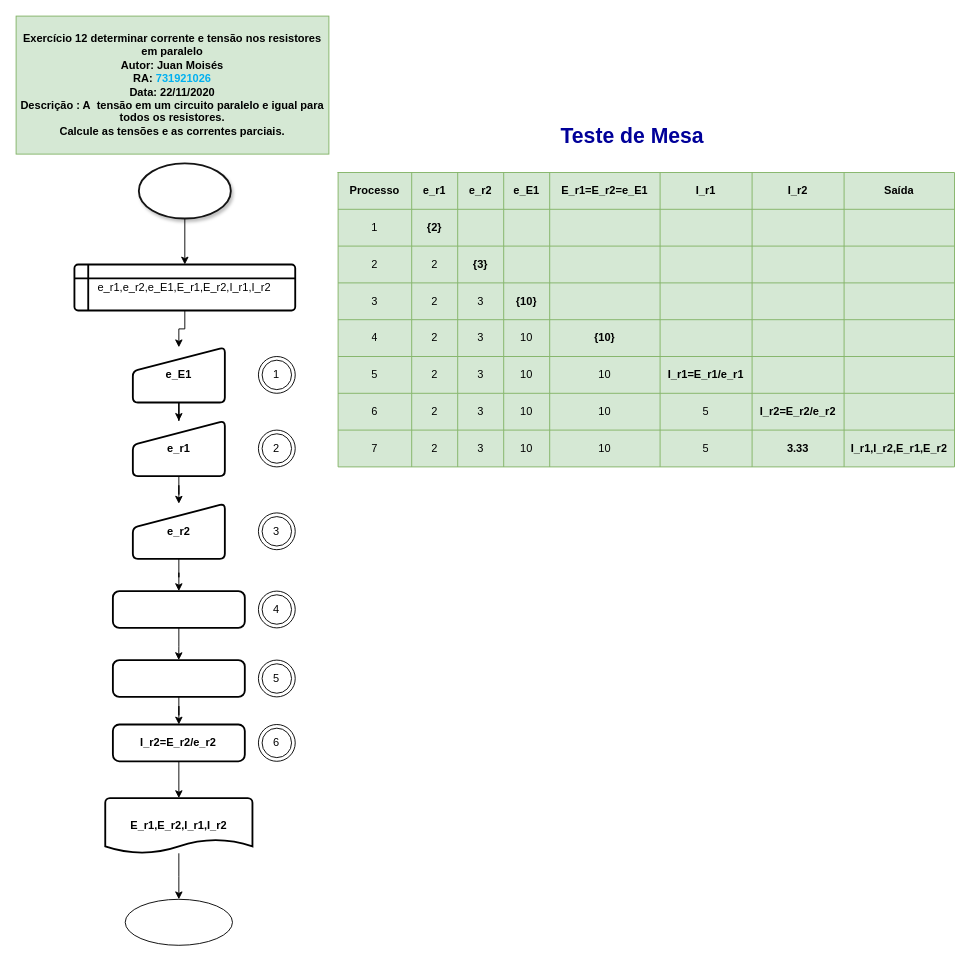
This 971x961 diagram has some shape labels left out. Each missing label, with the centre of its shape:
"e_E1=E_r1=E_r2" belongs at (x=178, y=609).
"Fim" belongs at (x=178, y=921).
"I_r1=E_r1/e-r1" belongs at (x=178, y=678).
"Inicio" belongs at (x=185, y=191).
